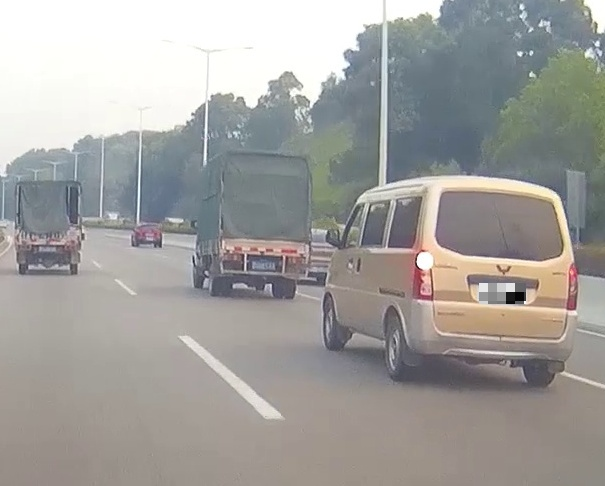L_light: (412, 249, 434, 301), (223, 253, 242, 260), (18, 245, 31, 250)
R_light: (566, 263, 578, 310), (287, 257, 306, 264), (64, 246, 79, 251)
T_light: (490, 193, 512, 197), (256, 252, 271, 255), (44, 242, 54, 244)
day-left: (407, 175, 579, 387)
day-no: (218, 150, 311, 300), (14, 180, 83, 275)
plate_1: (479, 283, 526, 304)
